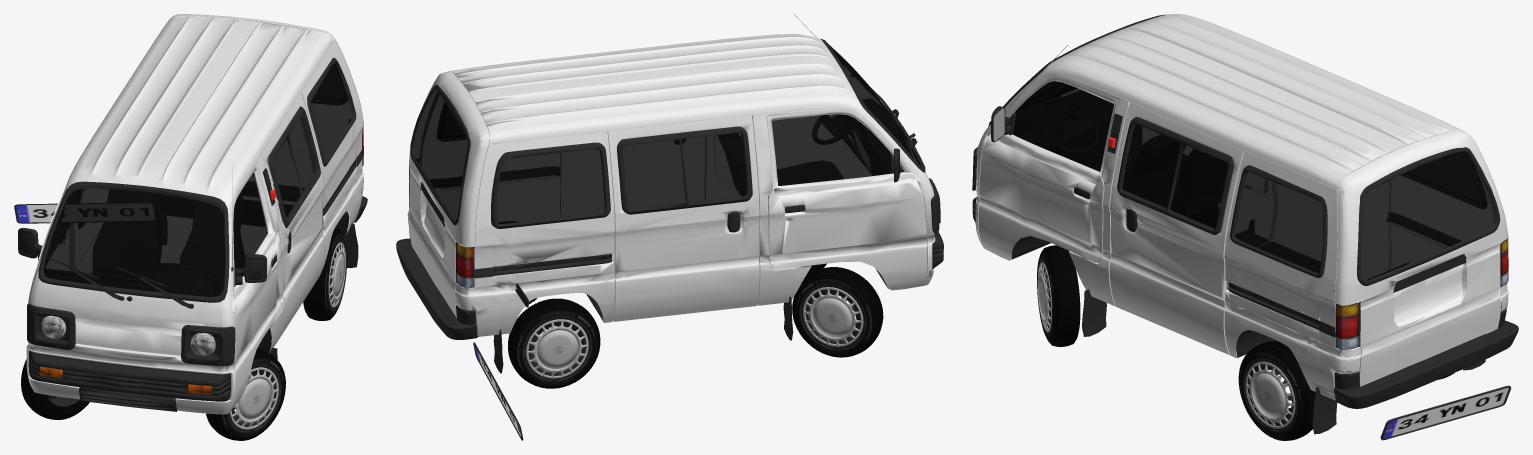
Rendered from suzuki-carry-minivan.glb.
The picture shows the model from 3 angles, left to right: view 1: azimuth 30°, elevation 25°; view 2: azimuth 150°, elevation 25°; view 3: azimuth 270°, elevation 25°; orthographic projection. The views are drawn at different scales.
Parts seen in each view (by area): view 1: 3DSMeshMatrix (×17); view 2: 3DSMeshMatrix (×14); view 3: 3DSMeshMatrix (×16).
Part boxes in pixels (box(x1,y1,x2,y2)): 3DSMeshMatrix (×17): box(14, 14, 367, 440); 3DSMeshMatrix (×14): box(396, 34, 943, 440); 3DSMeshMatrix (×16): box(972, 14, 1518, 440).
Bounding box in the file's own units: 311 × 202 × 310.
16 materials, 5 textured.
